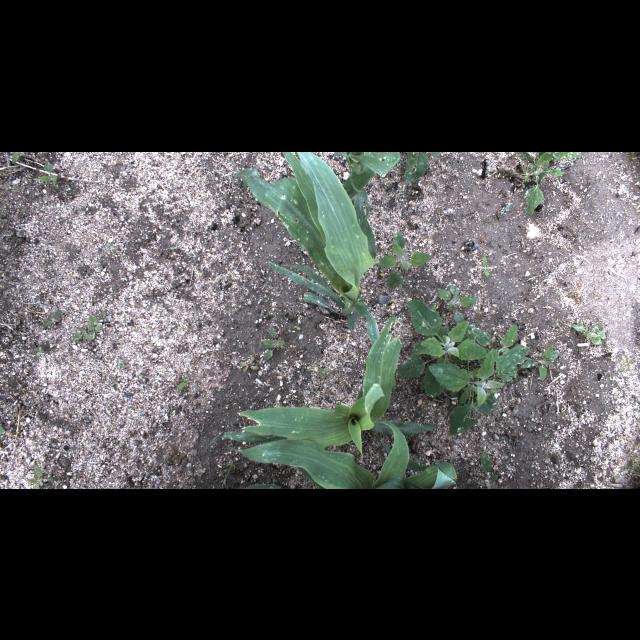crop: (238, 318, 434, 460), (234, 152, 378, 344), (207, 422, 458, 488), (332, 151, 402, 193), (242, 482, 282, 488)
weed: (397, 298, 487, 398), (436, 344, 528, 436), (511, 151, 582, 215), (376, 230, 432, 288), (479, 324, 519, 360), (520, 346, 560, 380), (463, 452, 499, 488), (404, 152, 441, 182), (74, 308, 108, 339), (435, 284, 477, 308), (262, 324, 286, 360), (27, 464, 59, 488), (574, 322, 606, 343), (38, 160, 58, 188), (175, 370, 201, 390), (218, 462, 234, 488), (239, 356, 259, 372), (42, 310, 62, 326), (316, 366, 336, 380), (620, 354, 632, 370), (11, 151, 27, 163), (482, 255, 488, 278), (306, 360, 318, 370), (119, 357, 127, 368), (298, 244, 306, 252), (0, 424, 6, 434), (36, 346, 42, 356), (168, 246, 178, 250), (294, 324, 300, 330), (632, 462, 636, 470), (310, 389, 318, 393), (110, 238, 114, 246)
